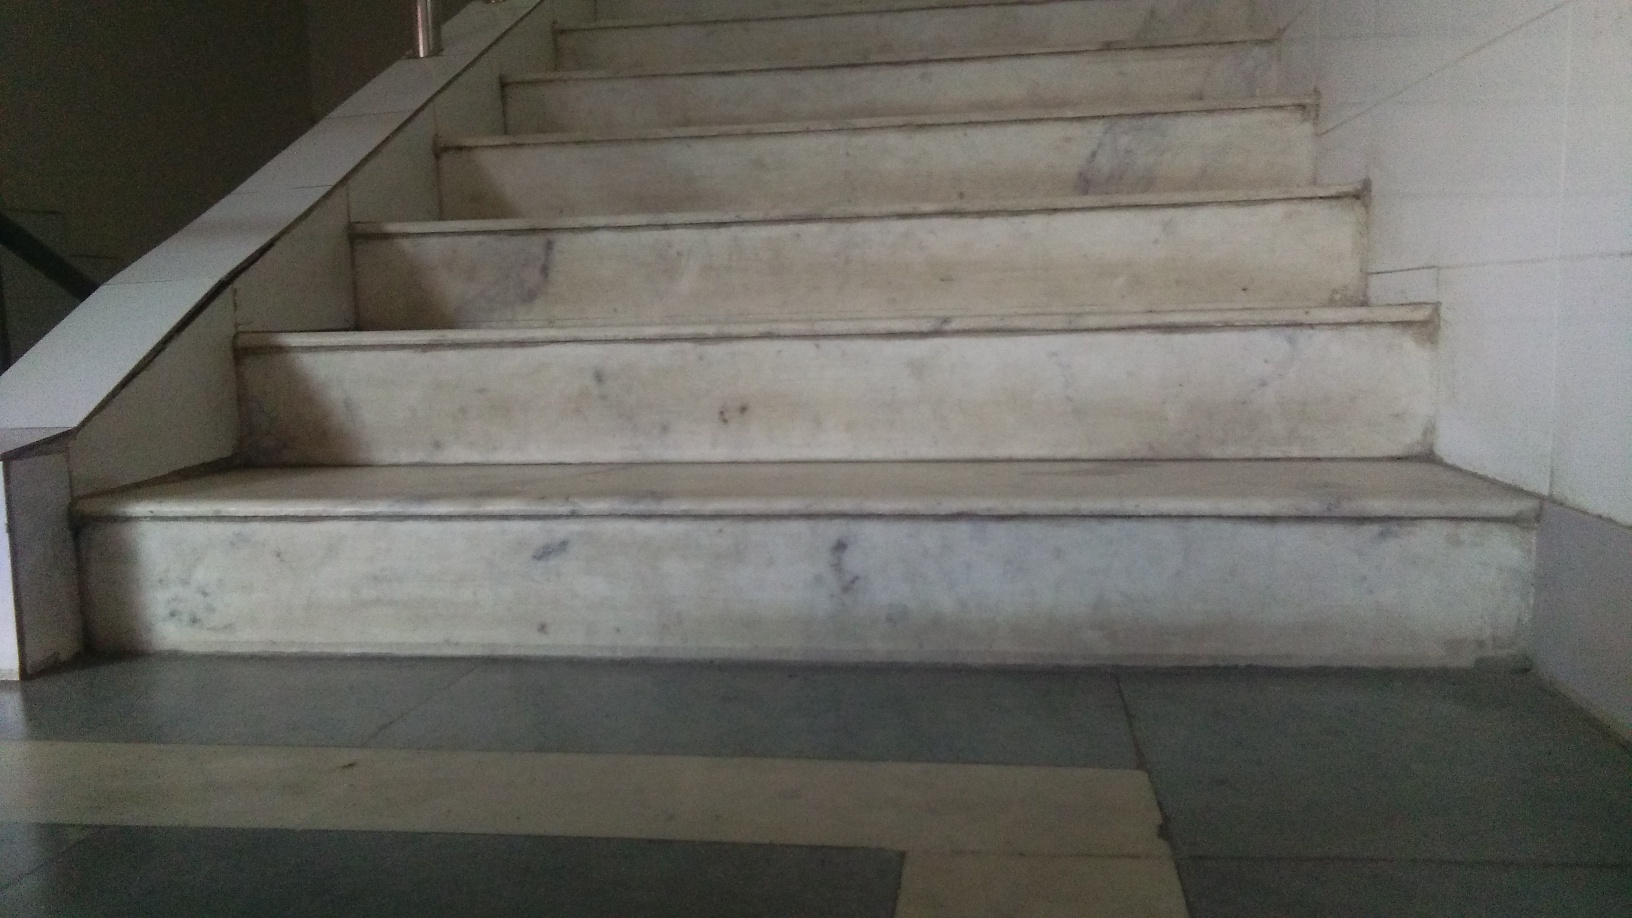stairs_up: (80, 24, 1526, 693)
